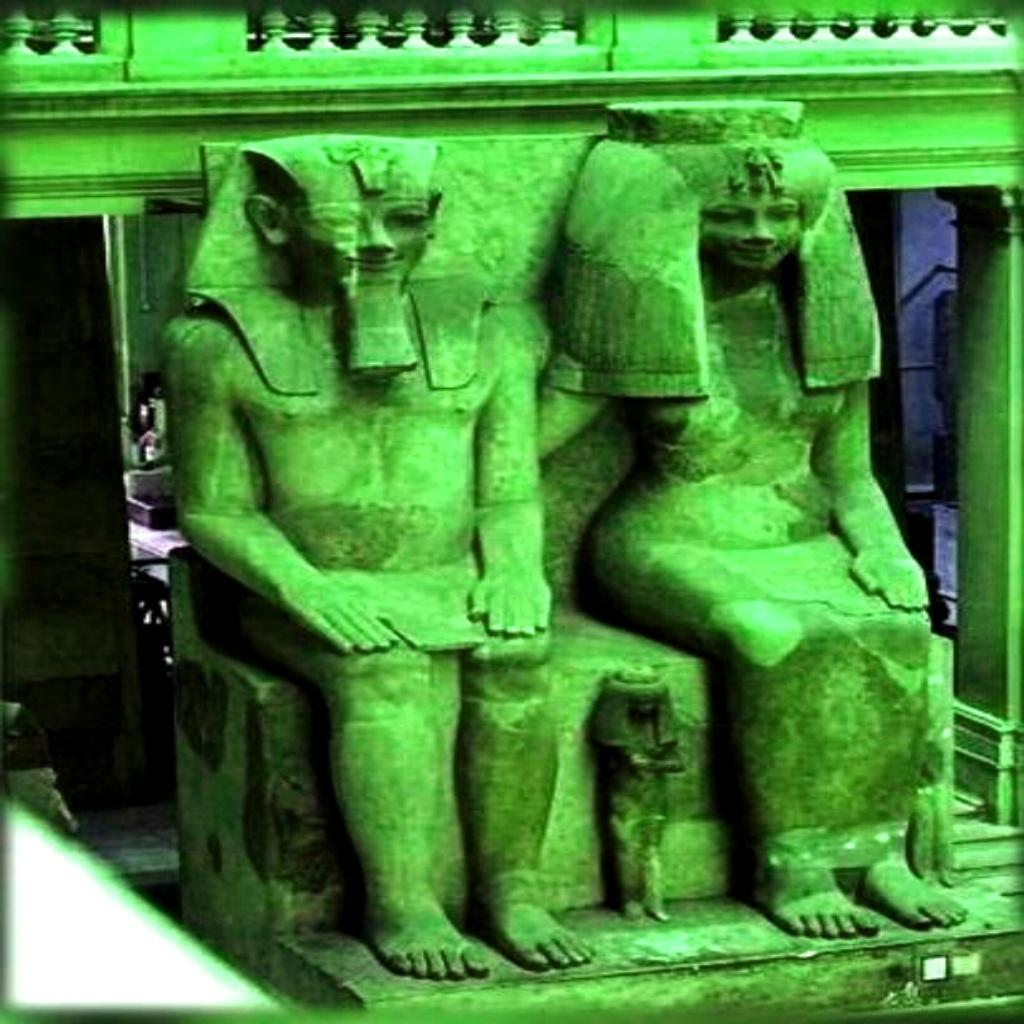Amenhotep III and Tiye: (156, 91, 944, 976)
